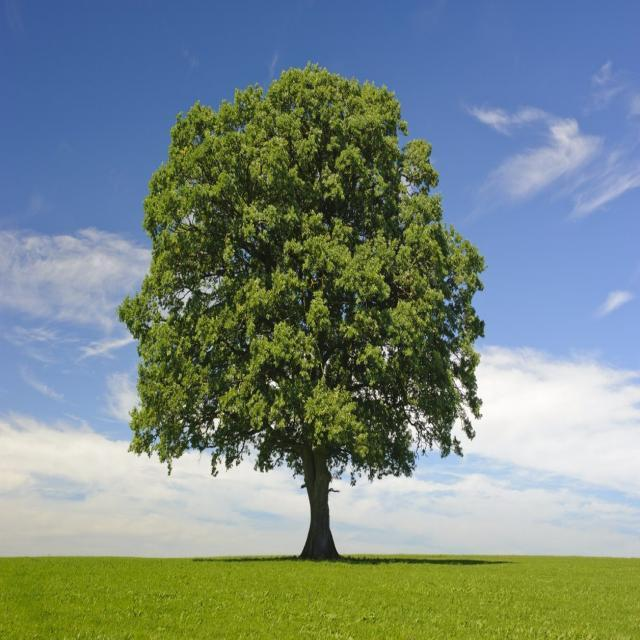Tree: (121, 66, 487, 561)
